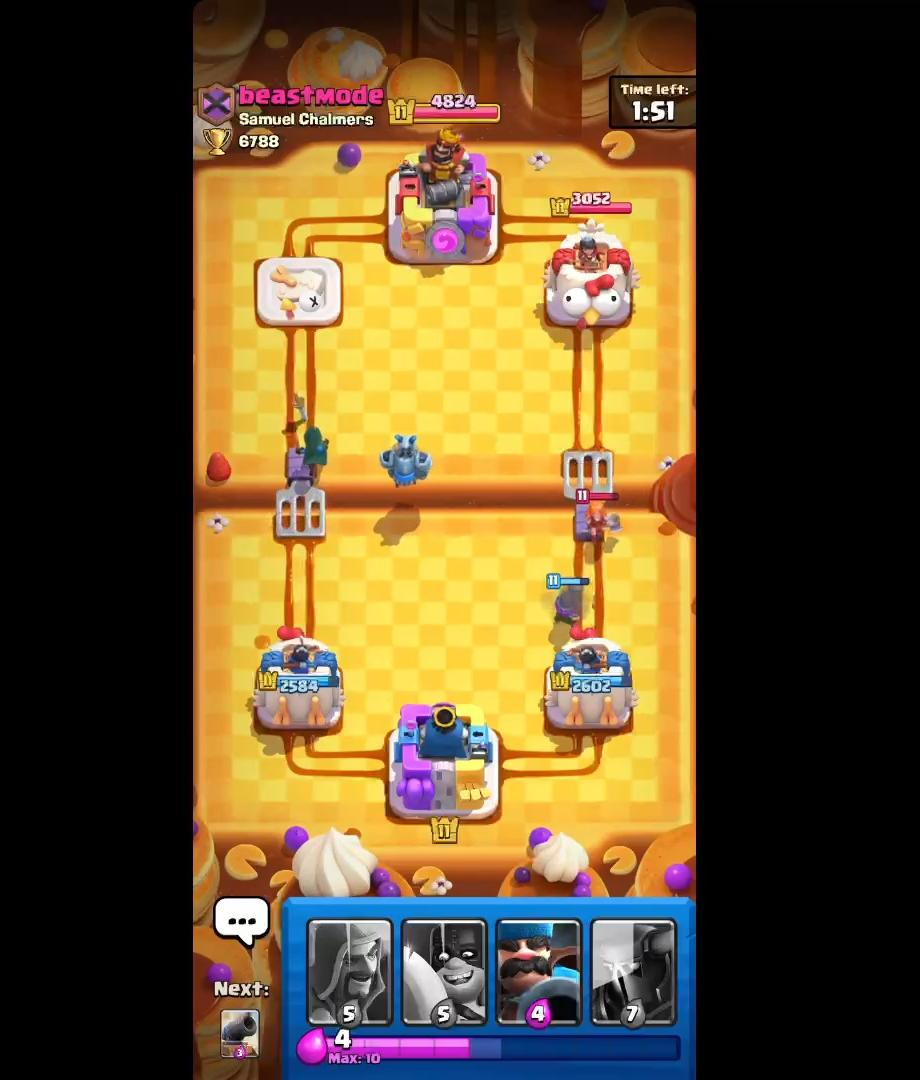Valkyrie: (569, 485, 623, 543)
